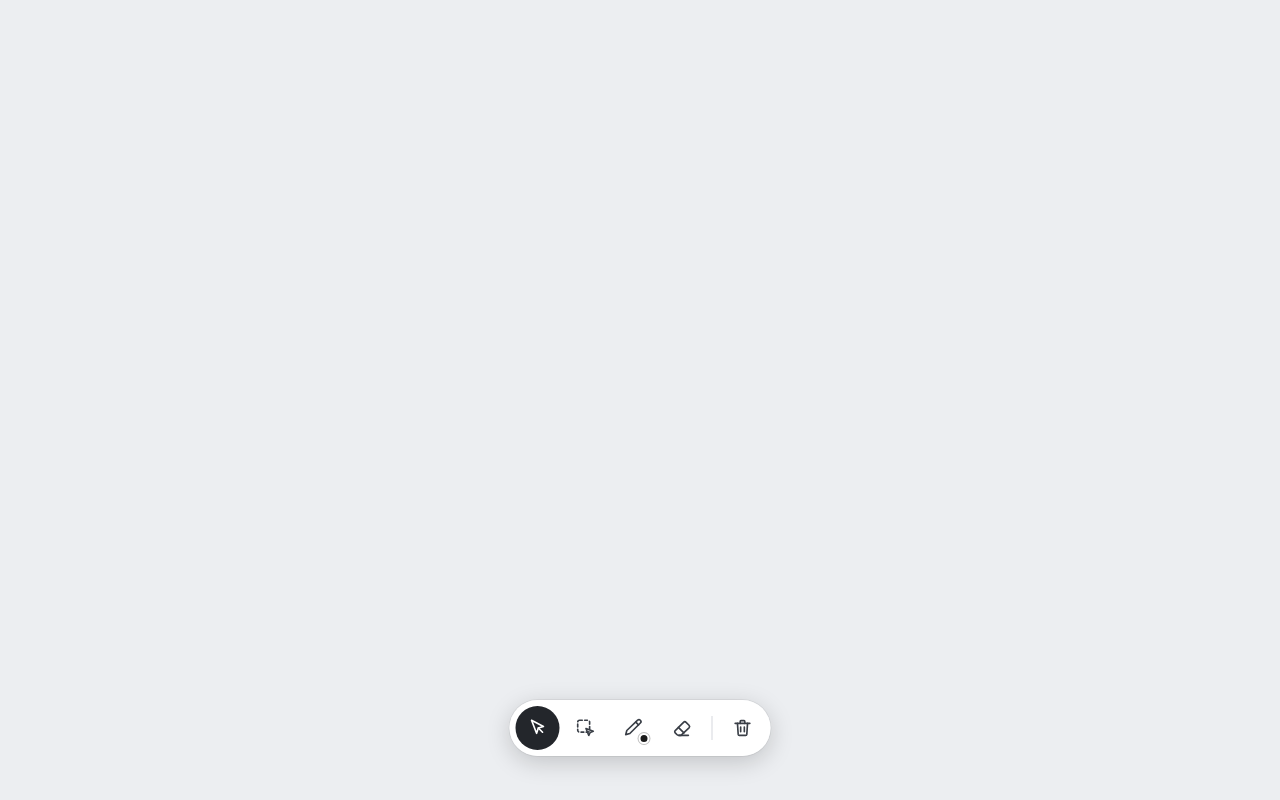
Test: paleta flutuante da lousa (estilo Freeform, só ícones) › "Apagar todos os desenhos" pede confirmação antes de executar
The width and height of the screenshot is (1280, 800).
Later steps or results of the test are not shown.
What coordinates should you click on to do the following:
click the button named "Apagar todos os desenhos"
I would click on:
 (742, 728)
Its box is [720,706,764,750].
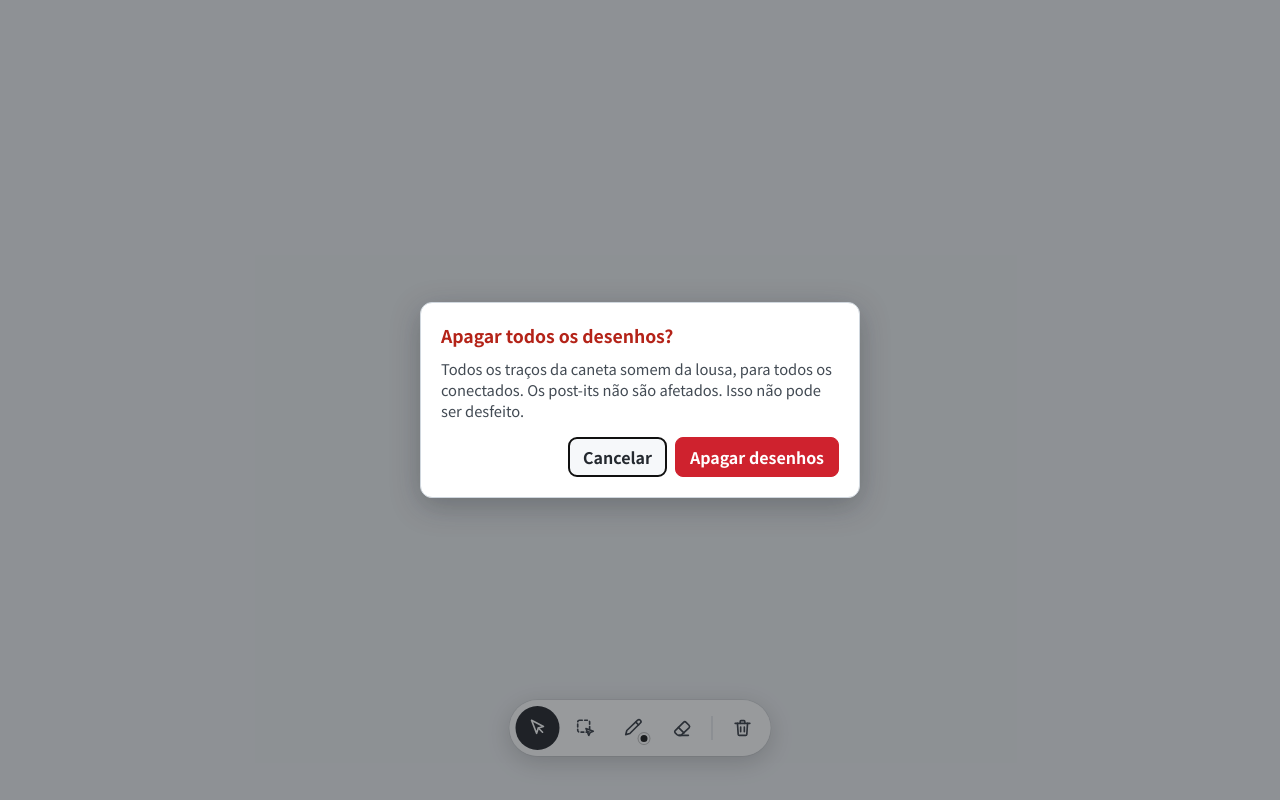
Now the text "Apagar todos os desenhos?" is shown, box [441,322,673,348]
